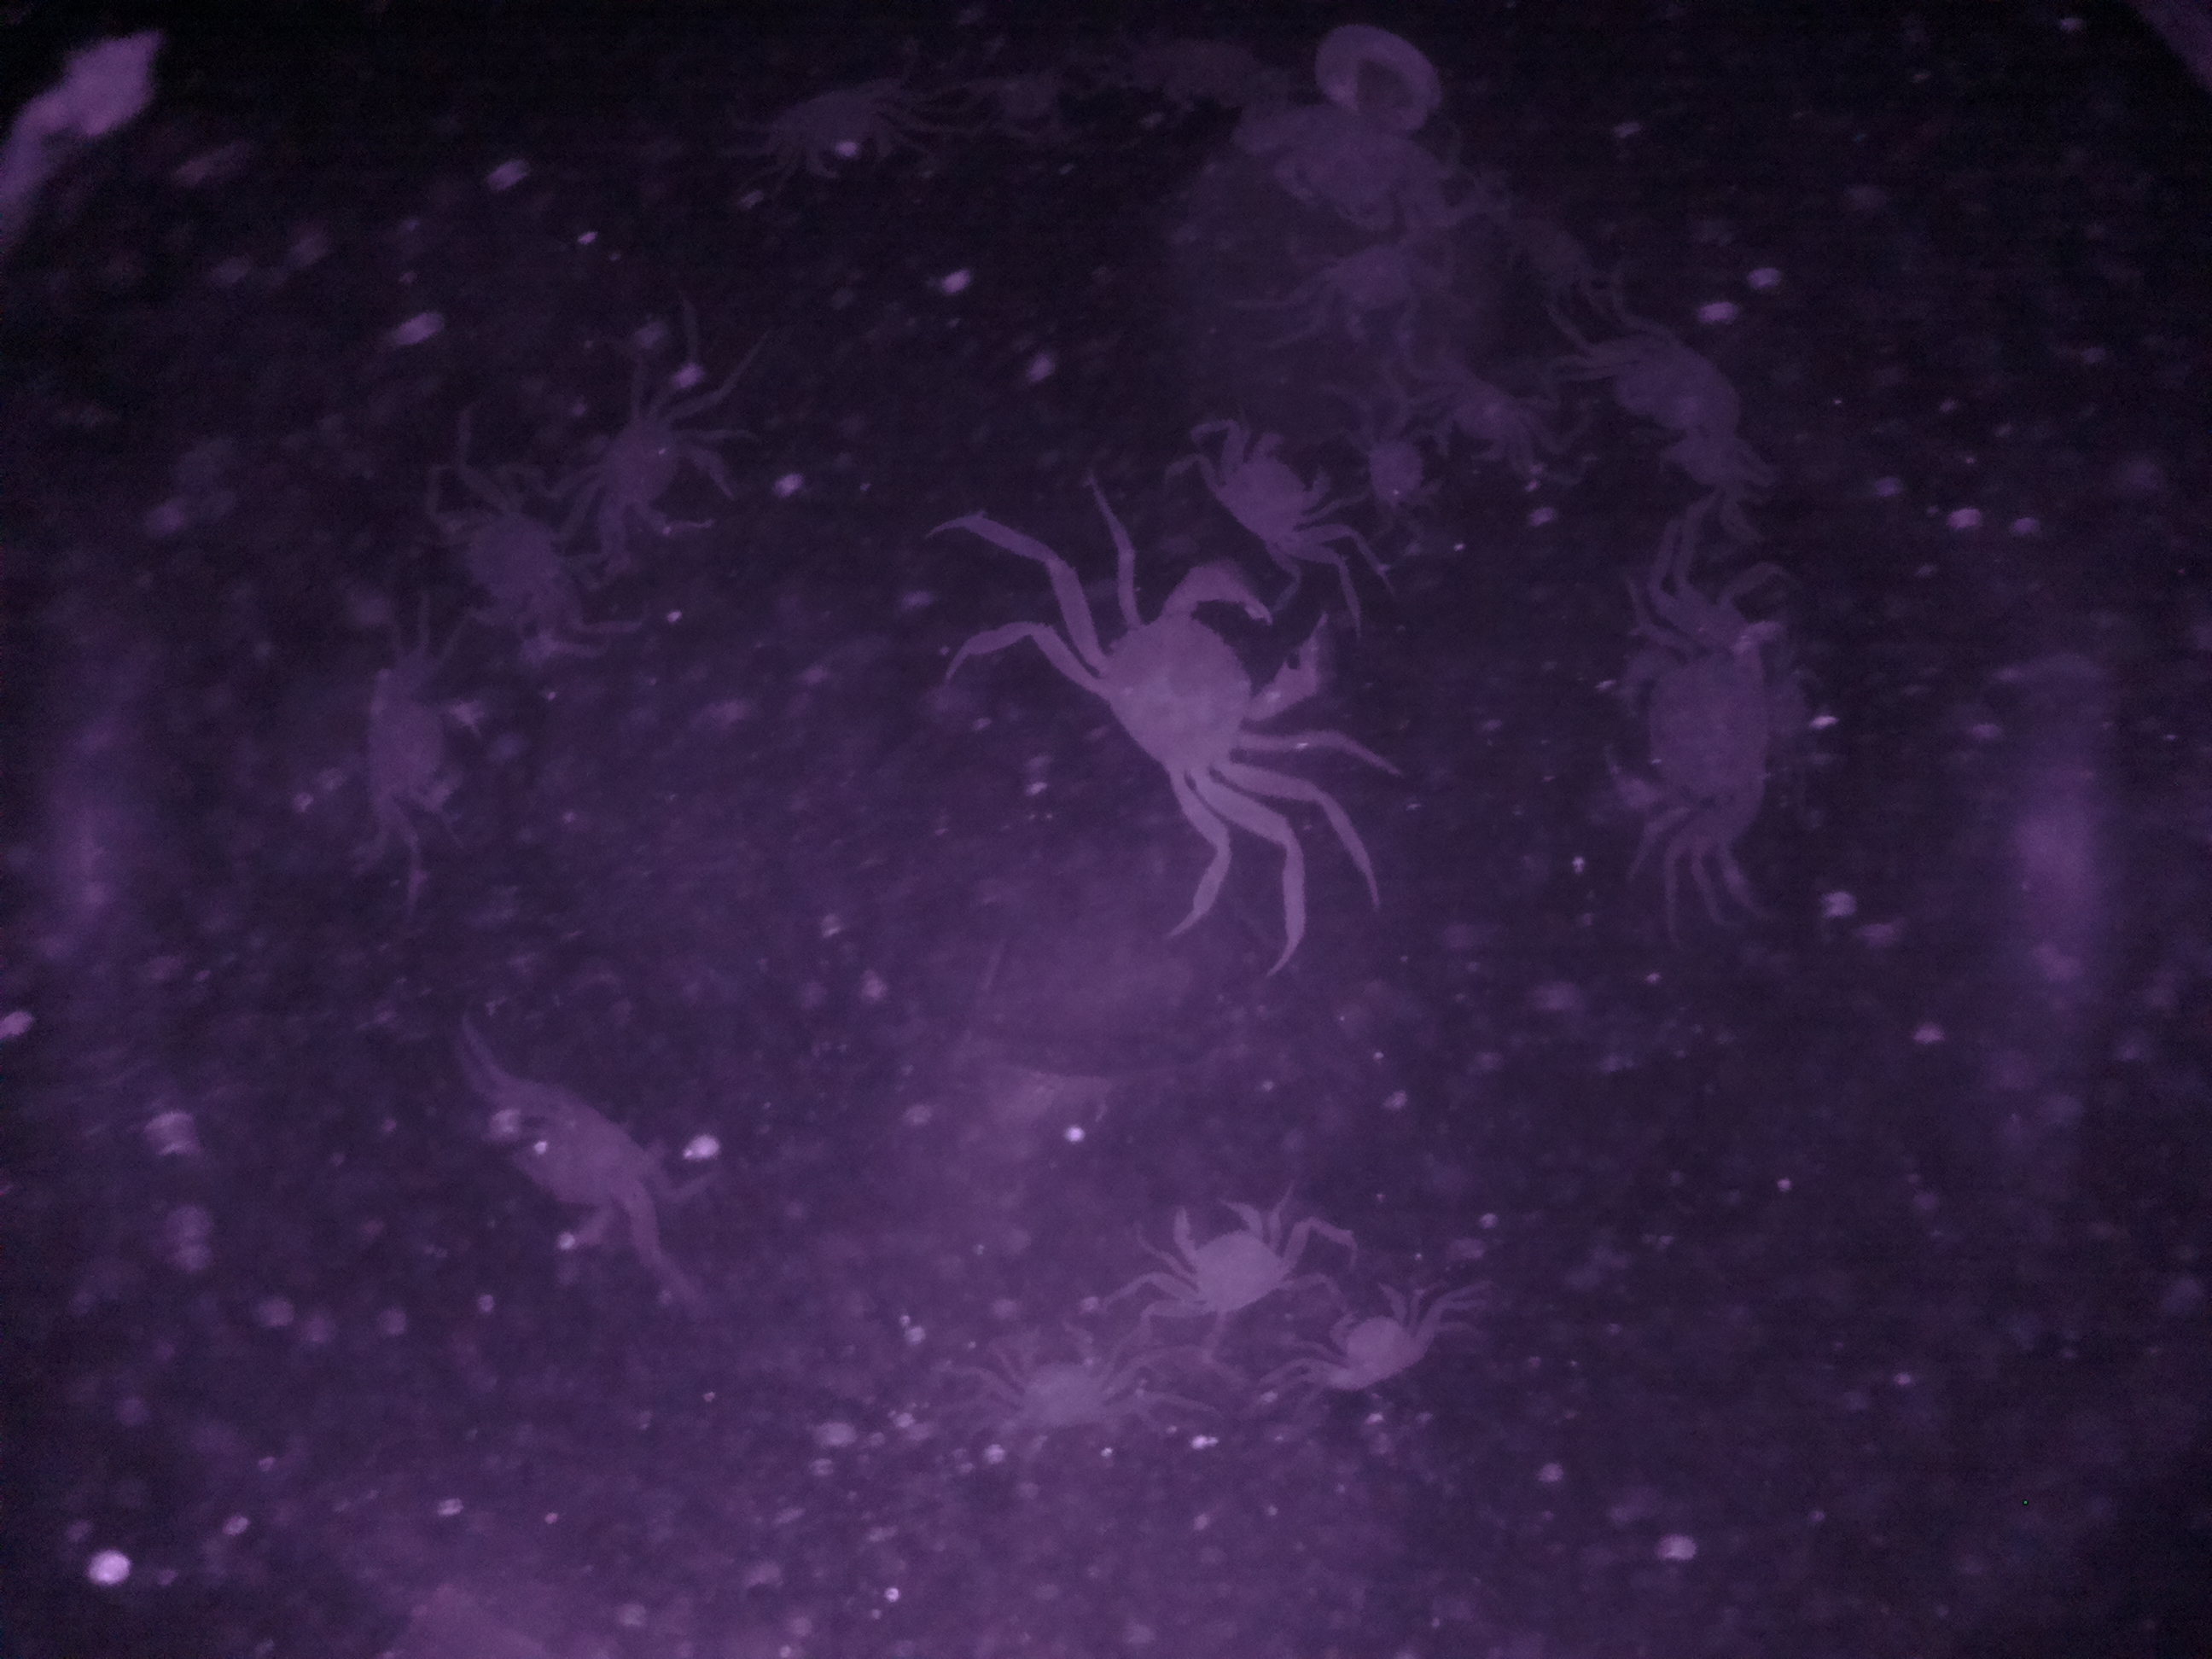Crab: (1066, 549, 1366, 823), (1585, 591, 1799, 871), (556, 369, 765, 565), (334, 648, 489, 863), (1177, 410, 1362, 584), (1289, 1258, 1475, 1406), (1148, 1183, 1303, 1342), (758, 59, 928, 193)
